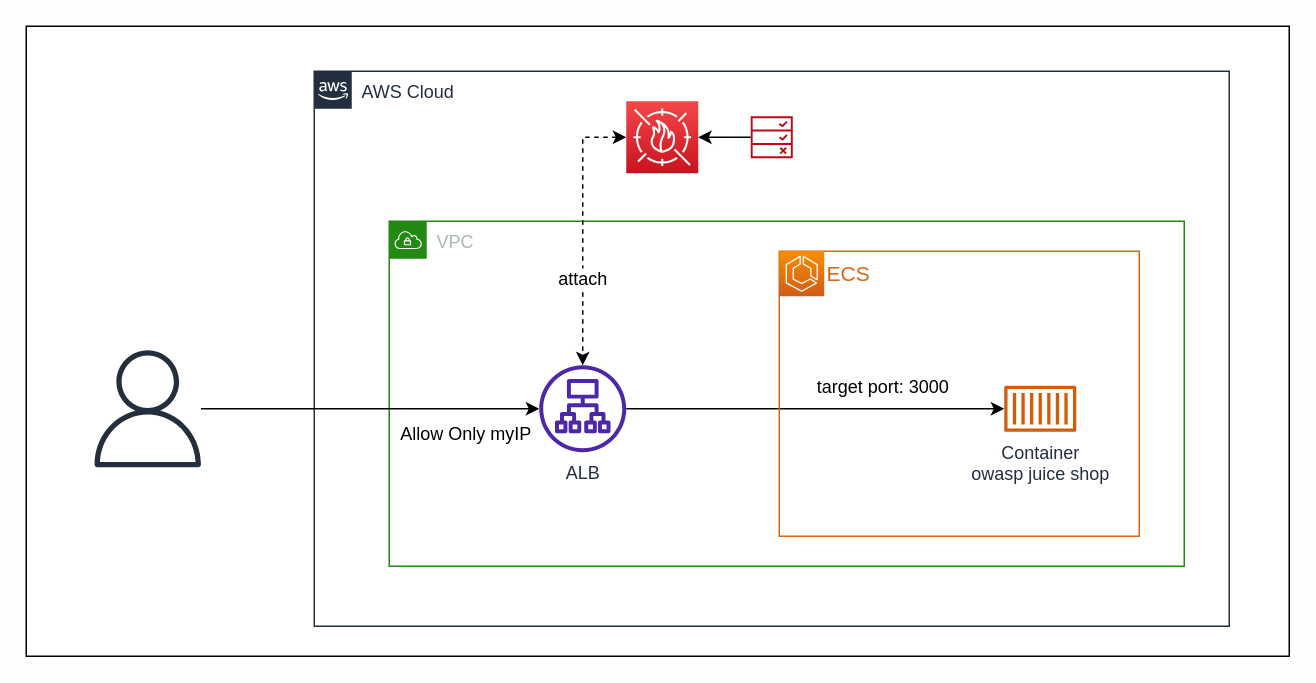
The diagram is 1316 pixels wide and 683 high, and some of its shapes have lost their labels. Here are the shapes that lost their labels. From the top down, the centre of each, then its label:
At pixel 661 136: "AWS WAF".
At pixel 771 137: "IPSet".
